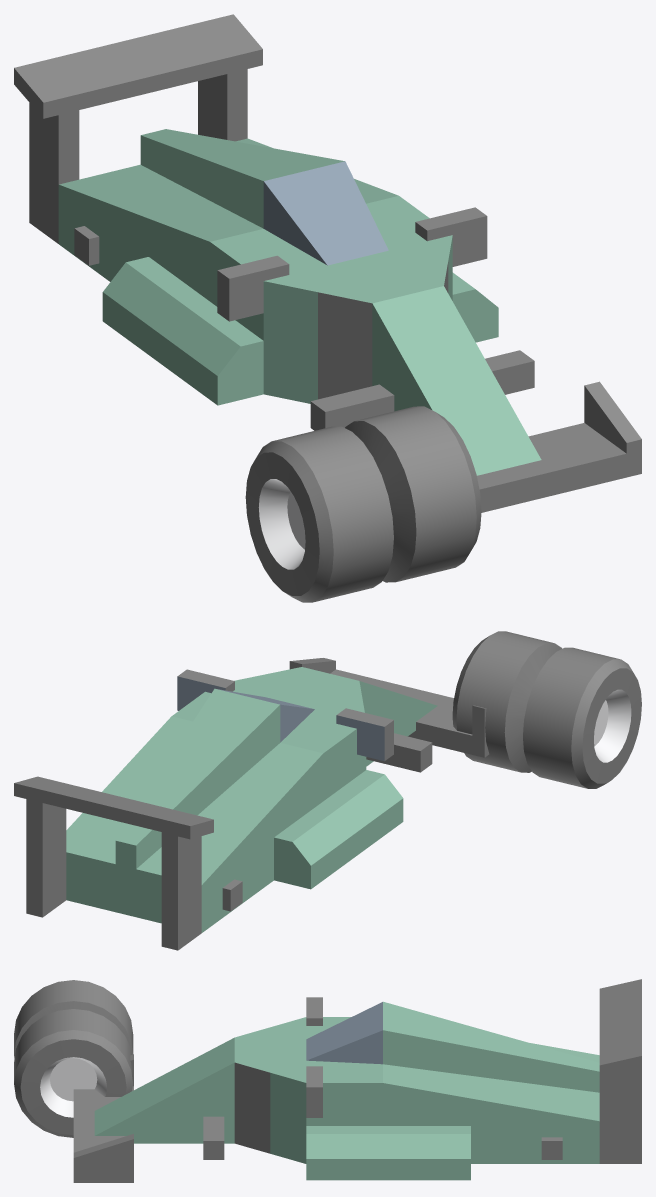
The model's file is raceCarGreen.glb.
3 views of the same model, one above another, from view 1: azimuth 30°, elevation 25°; view 2: azimuth 150°, elevation 25°; view 3: azimuth 270°, elevation 25° (orthographic). The views are drawn at different scales.
Visible parts, largest first — view 1: body, wheelBackRight, wheelBackLeft, wheelFrontLeft; view 2: body, wheelBackRight, wheelBackLeft, wheelFrontLeft; view 3: body, wheelBackLeft, wheelBackRight, wheelFrontLeft.
Boxes of the visible parts, box(x1,y1,x2,y2) form: body: box(14, 14, 641, 512); wheelBackRight: box(245, 426, 393, 602); wheelBackLeft: box(345, 406, 481, 582); wheelFrontLeft: box(365, 406, 463, 468); body: box(14, 658, 489, 950); wheelBackRight: box(523, 647, 641, 788); wheelBackLeft: box(452, 631, 562, 772); wheelFrontLeft: box(468, 631, 546, 682); body: box(73, 979, 641, 1182); wheelBackLeft: box(14, 1009, 133, 1137); wheelBackRight: box(14, 980, 133, 1058); wheelFrontLeft: box(31, 1009, 115, 1116).
Size of the model in its own units: 0.7419 by 0.397 by 1.49.
